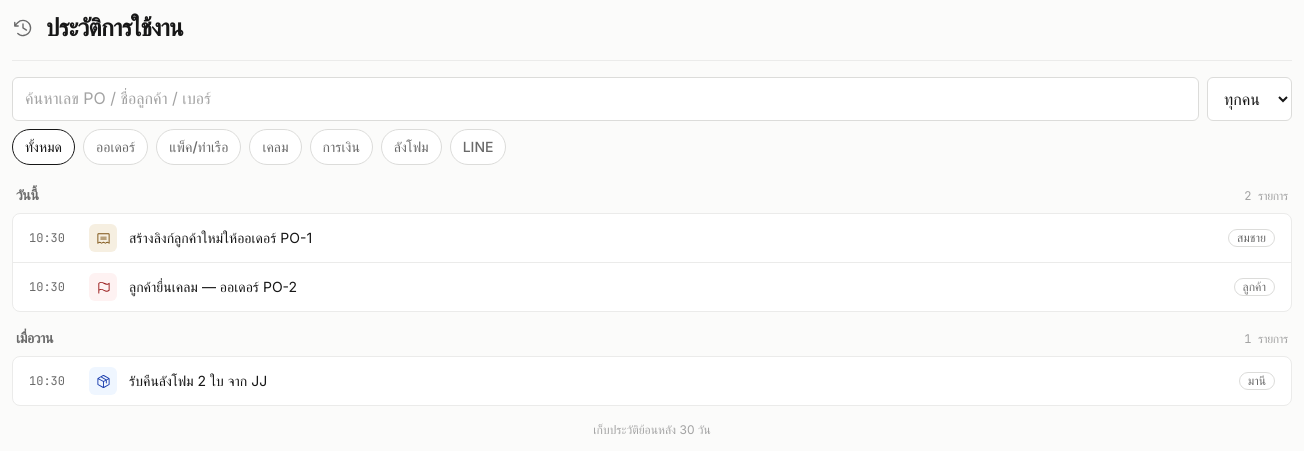
filter by type, by person, and search
Check: the text "สร้างลิงก์ลูกค้าใหม่ให้ออเดอร์ PO-1" is shown, box top-left (129, 229), bottom-right (312, 246)
Step 1. Click the button "เคลม" → click(276, 147), box top-left (249, 129), bottom-right (302, 165)
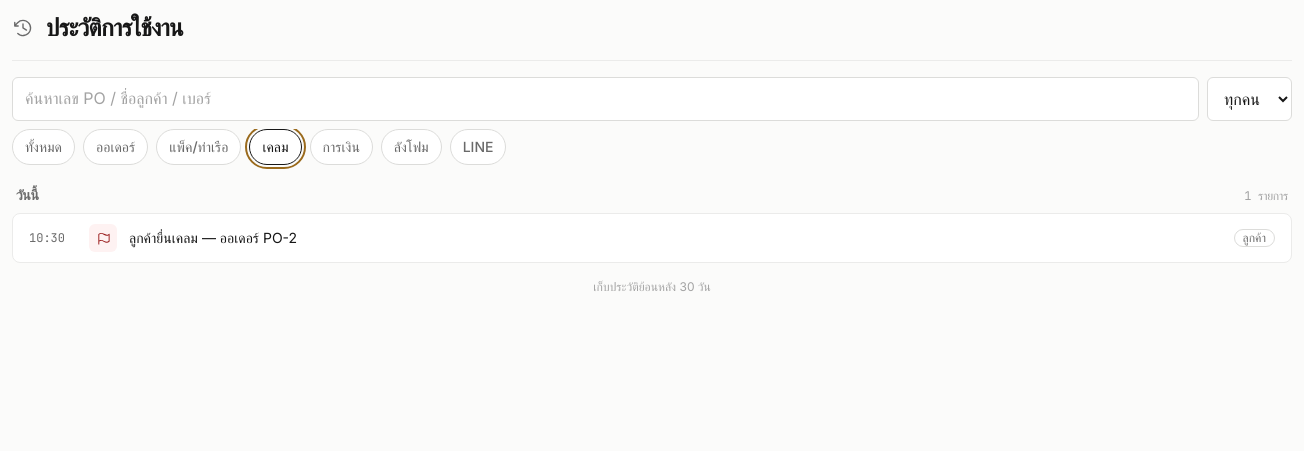
Check: the list item shows "PO-2", box top-left (13, 214), bottom-right (1291, 262)
Check: the number of list items is 1, box top-left (29, 224), bottom-right (1275, 252)
Step 2. Click the button "ทั้งหมด" → click(44, 147), box top-left (12, 129), bottom-right (75, 165)
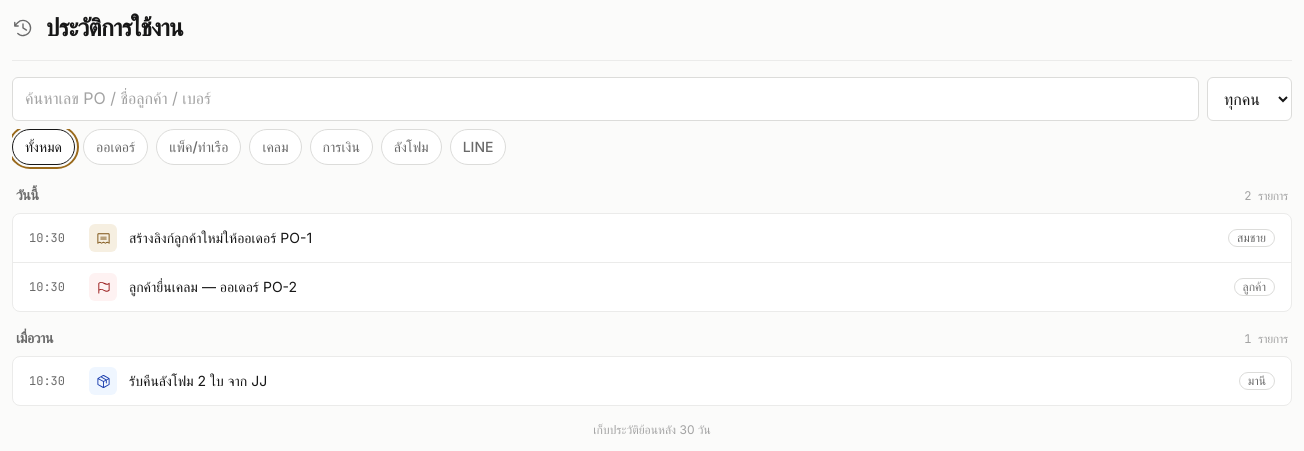
Step 3. Select "มานี" in the dropdown named "คนทำ" → (1250, 99), box top-left (1207, 77), bottom-right (1292, 121)
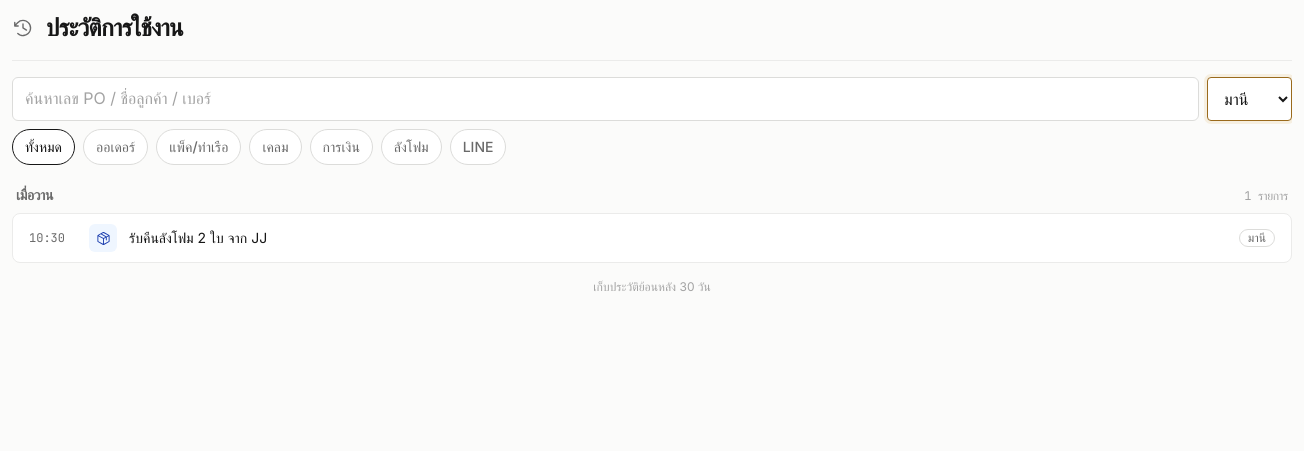
Check: the list item shows "ลังโฟม", box top-left (129, 229), bottom-right (267, 246)
Check: the number of list items is 1, box top-left (29, 224), bottom-right (1275, 252)
Step 4. Select "ทุกคน" in the dropdown named "คนทำ" → (1250, 99), box top-left (1207, 77), bottom-right (1292, 121)
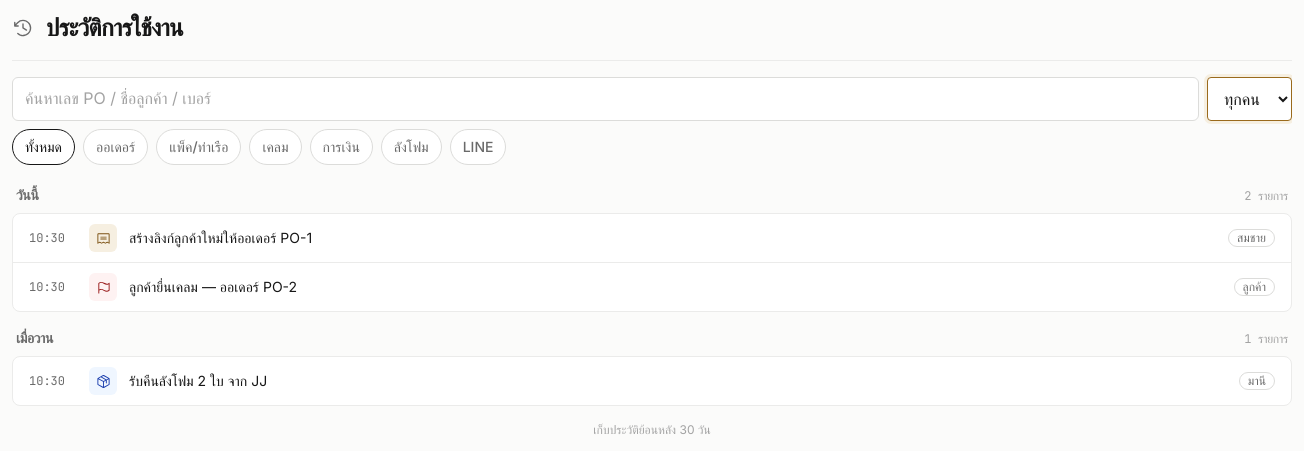
Step 5. Type "po-1" into the field with placeholder "ค้นหาเลข PO / ชื่อลูกค้า / เบอร์" → (606, 99), box top-left (12, 77), bottom-right (1199, 121)
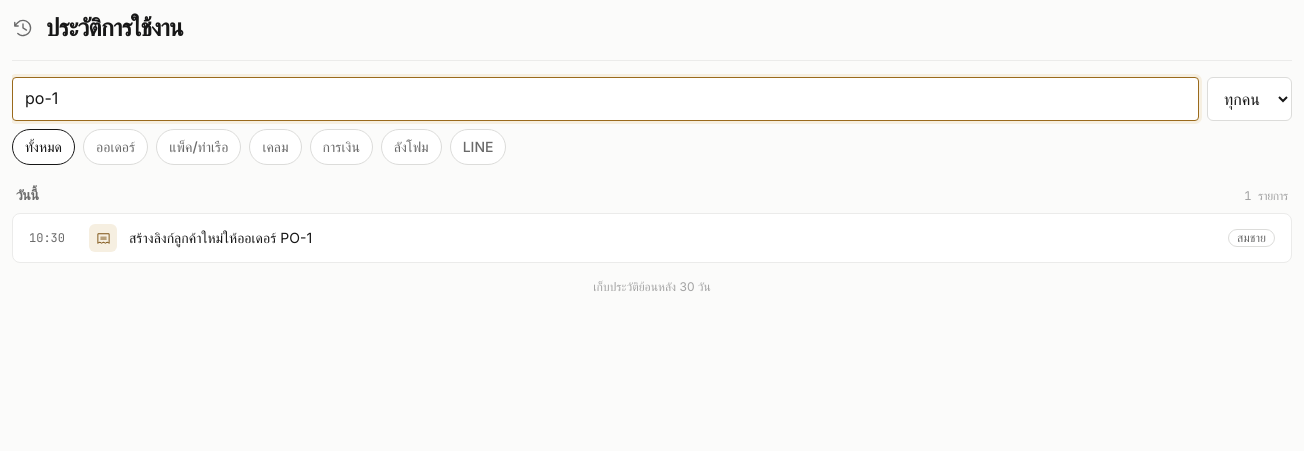
Check: the list item shows "PO-1", box top-left (13, 214), bottom-right (1291, 262)
Check: the number of list items is 1, box top-left (29, 224), bottom-right (1275, 252)
